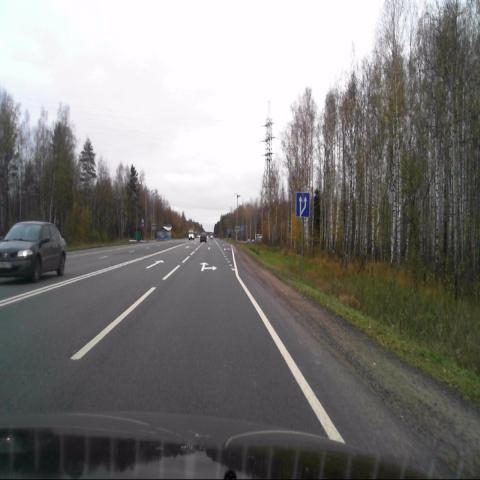5_15_3: (296, 193, 309, 217)
